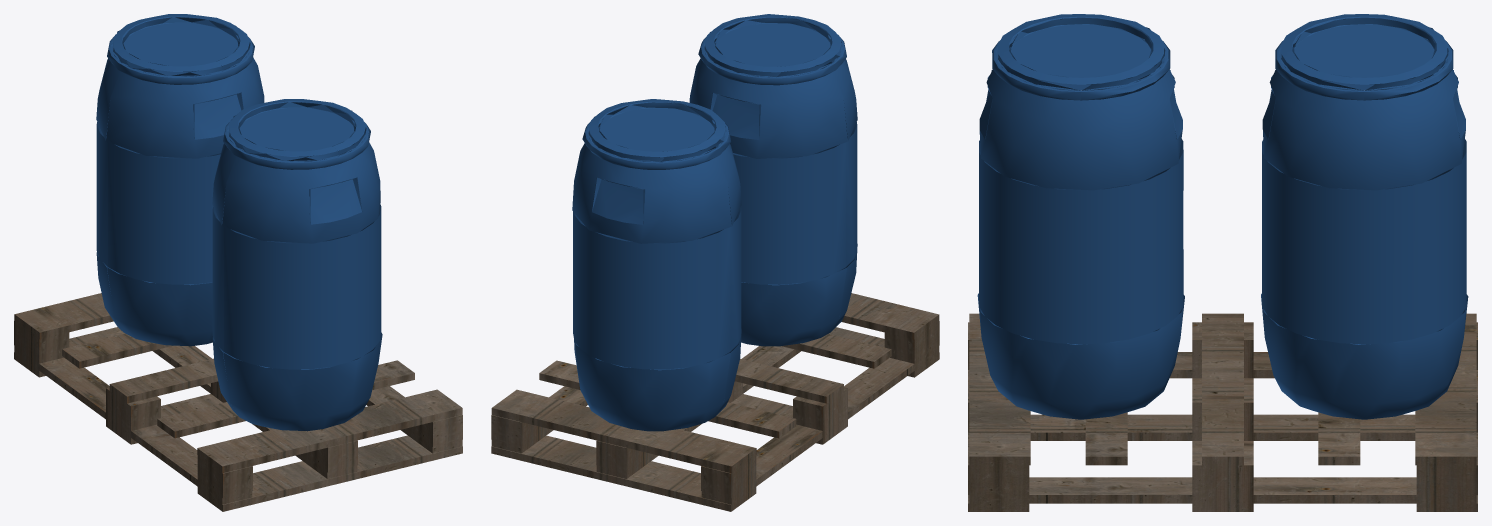
Rendered from pallet_drums.glb.
3 views of the same model, side by side, from view 1: azimuth 30°, elevation 25°; view 2: azimuth 150°, elevation 25°; view 3: azimuth 270°, elevation 25° (orthographic). The views are drawn at different scales.
Parts seen in each view (by area): view 1: pallet_drums; view 2: pallet_drums; view 3: pallet_drums.
Boxes of the visible parts, box(x1,y1,x2,y2) form: pallet_drums: box(14, 14, 462, 511); pallet_drums: box(491, 14, 939, 511); pallet_drums: box(968, 14, 1477, 511).
Size of the model in its own units: 0.8 by 1.03 by 1.2.
2 materials, 2 textured.
